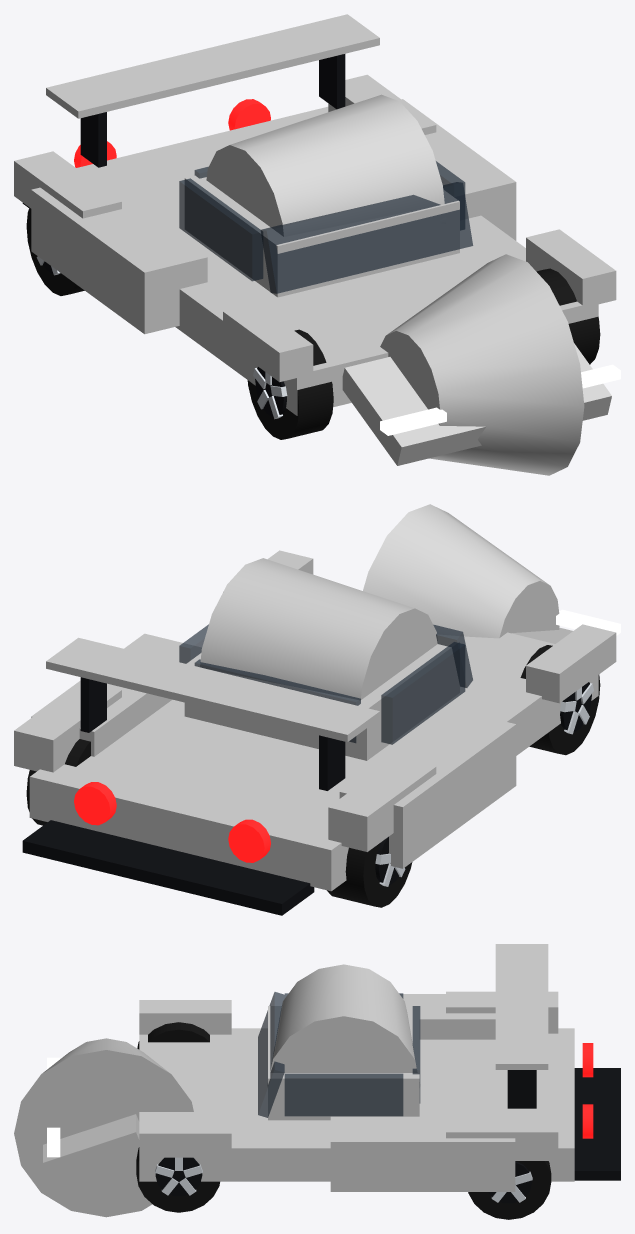
The model's file is king-egg-leviathan.glb.
The picture shows the model from 3 angles, top to bottom: view 1: azimuth 30°, elevation 25°; view 2: azimuth 150°, elevation 25°; view 3: azimuth 270°, elevation 25°; orthographic projection. The views are drawn at different scales.
Parts seen in each view (by area): view 1: chassis, glass, wheel-front-left, wheel-front-right, wheel-back-left; view 2: chassis, wheel-back-left, wheel-front-left, glass, wheel-back-right; view 3: chassis, wheel-front-right, wheel-back-right, glass, wheel-front-left.
Part boxes in pixels (bbox=[...]): chassis: bbox=[14, 14, 620, 475]; glass: bbox=[260, 182, 472, 293]; wheel-front-left: bbox=[247, 329, 333, 439]; wheel-front-right: bbox=[536, 268, 600, 364]; wheel-back-left: bbox=[26, 207, 84, 295]; chassis: bbox=[14, 504, 620, 915]; wheel-back-left: bbox=[327, 836, 412, 907]; wheel-front-left: bbox=[520, 645, 600, 755]; glass: bbox=[433, 625, 472, 687]; wheel-back-right: bbox=[26, 739, 90, 825]; chassis: bbox=[14, 944, 620, 1217]; wheel-front-right: bbox=[136, 1147, 219, 1212]; wheel-back-right: bbox=[468, 1161, 551, 1219]; glass: bbox=[258, 992, 284, 1117]; wheel-front-left: bbox=[137, 1022, 209, 1049].
Size of the model in its own units: 2.65 by 1.74 by 4.6.
